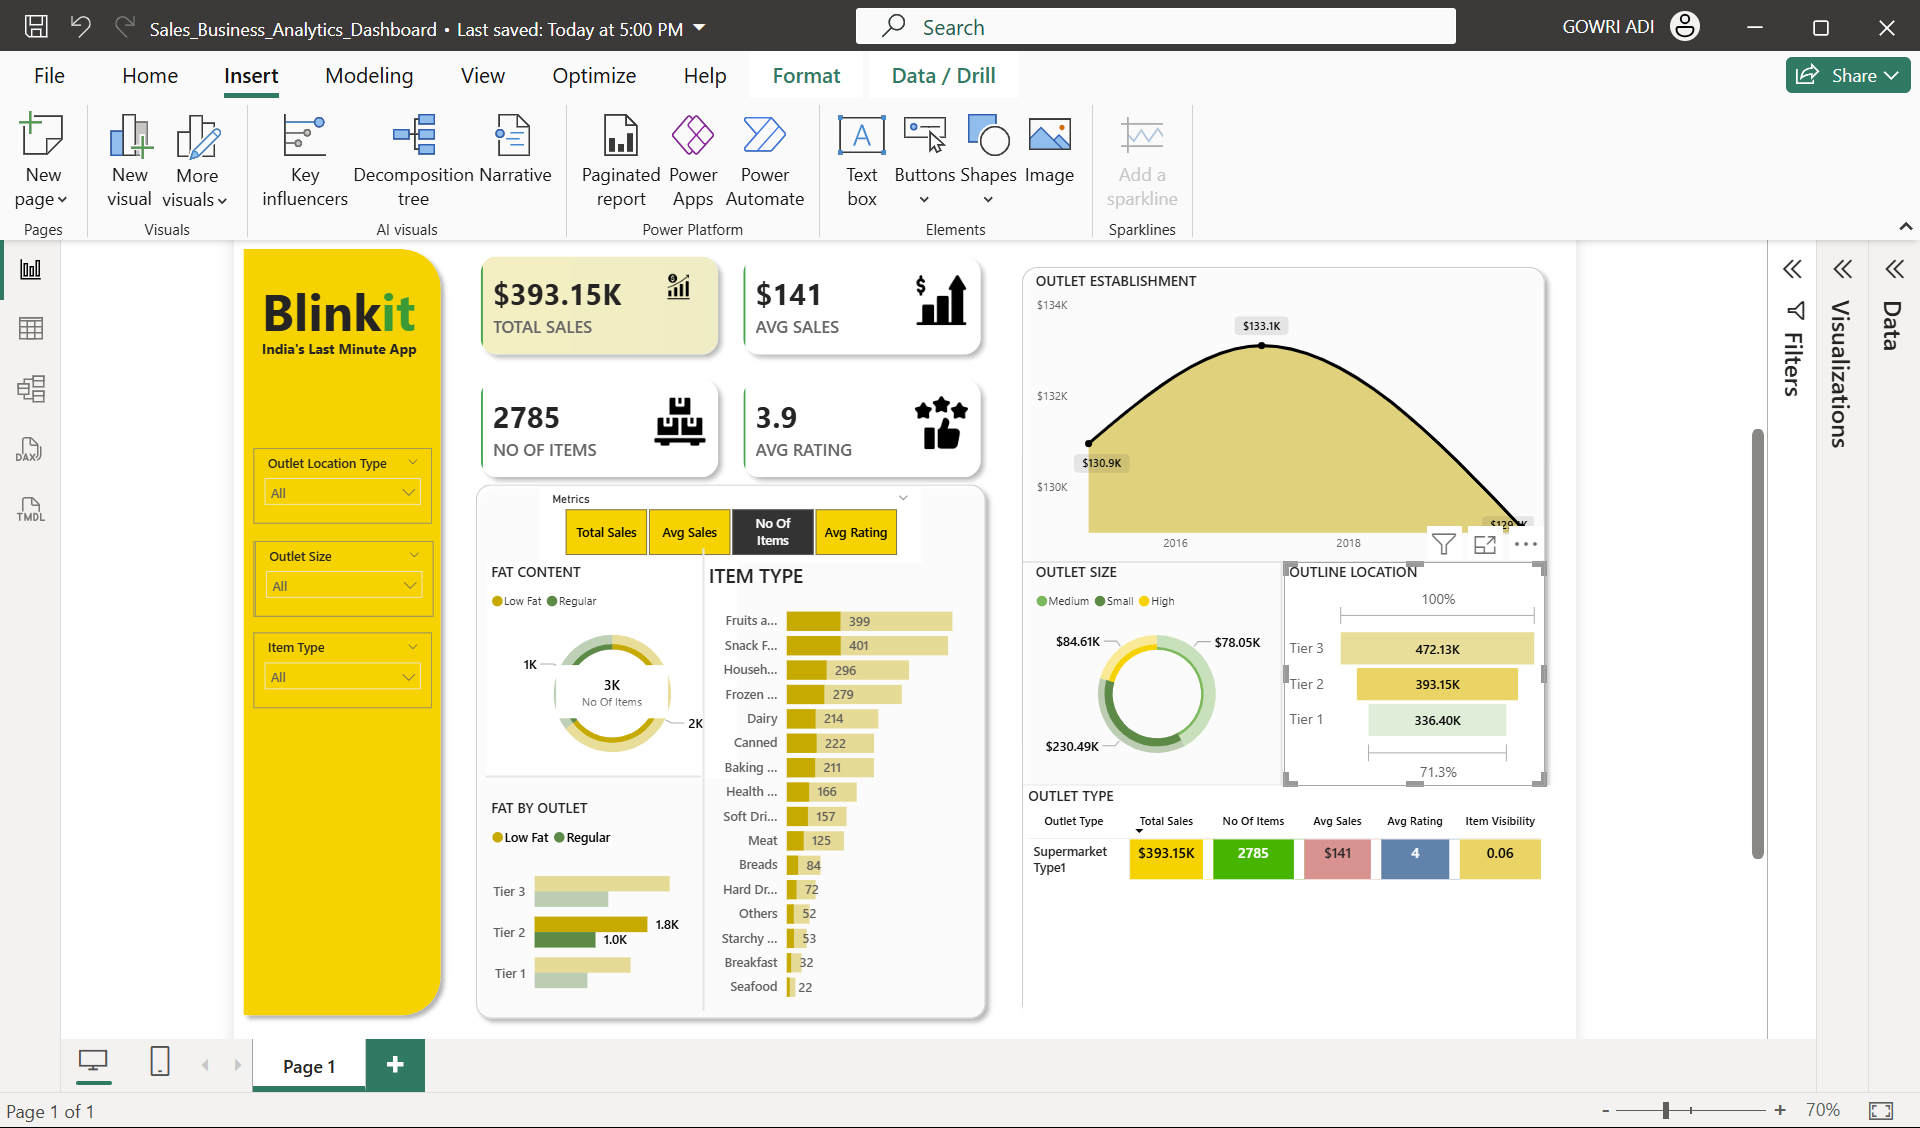

What the dashboard file says about the page in this screenshot:
{"tool":"powerbi","page":{"name":"Page 1","canvas":[1278,1400],"ordinal":0},"visuals":[{"type":"shape","box":[0,322,206,748],"z":0},{"type":"textbox","box":[22,352,166,82],"z":1000},{"type":"textbox","box":[22,410,170,46],"z":2000},{"type":"cardVisual","fields":{"Data":["BlinkIT Grocery Data.Total Sales","BlinkIT Grocery Data.Avg Sales","BlinkIT Grocery Data.No Of Items","BlinkIT Grocery Data.Avg Rating"]},"box":[205,308.3,535,268.3],"z":3000},{"type":"shape","box":[221.7,545,503.3,526.7],"z":4000},{"type":"donutChart","title":"FAT CONTENT","fields":{"Y":["BlinkIT Grocery Data.Avg Rating"],"Category":["BlinkIT Grocery Data.Item Fat Content"]},"box":[240,628.3,240,205],"z":5000},{"type":"slicer","fields":{"Values":["Metrics.Metrics"]},"box":[290,556.7,365,71.7],"z":6000},{"type":"cardVisual","fields":{"Data":["BlinkIT Grocery Data.Avg Rating"]},"box":[305,731.7,118.3,61.7],"z":7000},{"type":"clusteredBarChart","title":"FAT BY OUTLET","fields":{"Y":["BlinkIT Grocery Data.Avg Rating"],"Category":["BlinkIT Grocery Data.Outlet Location Type"],"Series":["BlinkIT Grocery Data.Item Fat Content"]},"box":[240,853.3,205,203.3],"z":8000},{"type":"shape","box":[240,813.3,205,40],"z":9000},{"type":"shape","box":[343.3,616.7,205,440],"z":10000},{"type":"barChart","title":"ITEM TYPE","fields":{"Y":["BlinkIT Grocery Data.Avg Rating"],"Category":["BlinkIT Grocery Data.Item Type"]},"box":[446.7,628.3,263.3,428.3],"z":11000},{"type":"shape","box":[742,338,516,734],"z":12000},{"type":"lineChart","title":"OUTLET ESTABLISHMENT","fields":{"Y":["BlinkIT Grocery Data.Total Sales"],"Category":["BlinkIT Grocery Data.Outlet Establishment Year"]},"box":[758,352,484,276],"z":13000},{"type":"shape","box":[752,608,496,40],"z":14000},{"type":"donutChart","title":"OUTLET SIZE","fields":{"Y":["BlinkIT Grocery Data.Total Sales"],"Category":["BlinkIT Grocery Data.Outlet Size"]},"box":[758,628,240,206],"z":15000},{"type":"shape","box":[896,628,204,214],"z":16000},{"type":"funnel","title":"OUTLINE LOCATION","fields":{"Y":["Sum(BlinkIT Grocery Data.Sales)"],"Category":["BlinkIT Grocery Data.Outlet Location Type"]},"box":[1000,628,248,214],"z":17000},{"type":"shape","box":[752,822,496,40],"z":18000},{"type":"pivotTable","title":"OUTLET TYPE","fields":{"Rows":["BlinkIT Grocery Data.Outlet Type"],"Values":["BlinkIT Grocery Data.Total Sales","BlinkIT Grocery Data.No Of Items","BlinkIT Grocery Data.Avg Sales","BlinkIT Grocery Data.Avg Rating","Avg(BlinkIT Grocery Data.Item Visibility)"]},"box":[752,842,506,230],"z":19000},{"type":"slicer","fields":{"Values":["BlinkIT Grocery Data.Outlet Location Type"]},"box":[18,520,170,72],"z":20000},{"type":"slicer","fields":{"Values":["BlinkIT Grocery Data.Outlet Size"]},"box":[18,608,170,72],"z":21000},{"type":"slicer","fields":{"Values":["BlinkIT Grocery Data.Item Type"]},"box":[18,696,170,72],"z":22000},{"type":"slicer","fields":{"Values":["BlinkIT Grocery Data.Outlet Size"]},"box":[20,608,170,72],"z":23000},{"type":"textbox","box":[0,146,206,72],"z":24000}]}

Visuals, with their boxes on the page's 1278x1400 design canvas (x1, y1, x2, y2). These are canvas units, not pixel positions in the 1920x1128 screenshot, which may show the page scaled, cropped or inside an application window:
shape: detection(0, 322, 206, 1070)
textbox: detection(22, 352, 188, 434)
textbox: detection(22, 410, 192, 456)
cardVisual - BlinkIT Grocery Data.Total Sales x BlinkIT Grocery Data.Avg Sales: detection(205, 308, 740, 577)
shape: detection(222, 545, 725, 1072)
"FAT CONTENT" donutChart: detection(240, 628, 480, 833)
slicer - Metrics.Metrics: detection(290, 557, 655, 628)
cardVisual - BlinkIT Grocery Data.Avg Rating: detection(305, 732, 423, 793)
"FAT BY OUTLET" clusteredBarChart: detection(240, 853, 445, 1057)
shape: detection(240, 813, 445, 853)
shape: detection(343, 617, 548, 1057)
"ITEM TYPE" barChart: detection(447, 628, 710, 1057)
shape: detection(742, 338, 1258, 1072)
"OUTLET ESTABLISHMENT" lineChart: detection(758, 352, 1242, 628)
shape: detection(752, 608, 1248, 648)
"OUTLET SIZE" donutChart: detection(758, 628, 998, 834)
shape: detection(896, 628, 1100, 842)
"OUTLINE LOCATION" funnel: detection(1000, 628, 1248, 842)
shape: detection(752, 822, 1248, 862)
"OUTLET TYPE" pivotTable: detection(752, 842, 1258, 1072)
slicer - BlinkIT Grocery Data.Outlet Location Type: detection(18, 520, 188, 592)
slicer - BlinkIT Grocery Data.Outlet Size: detection(18, 608, 188, 680)
slicer - BlinkIT Grocery Data.Item Type: detection(18, 696, 188, 768)
slicer - BlinkIT Grocery Data.Outlet Size: detection(20, 608, 190, 680)
textbox: detection(0, 146, 206, 218)
